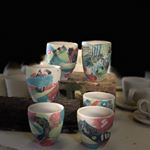cups: (74, 103, 116, 150), (25, 100, 66, 147)
